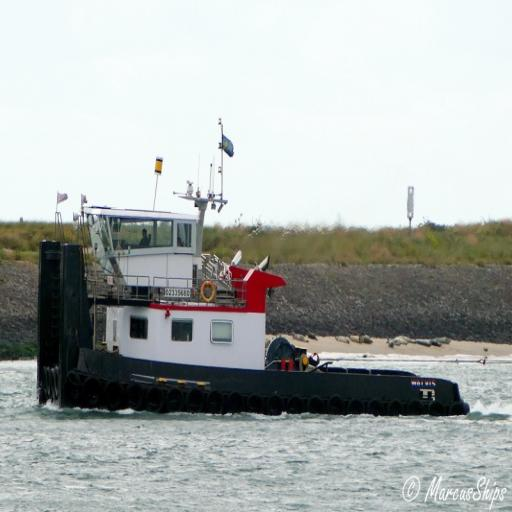tugboat: (36, 188, 482, 427)
